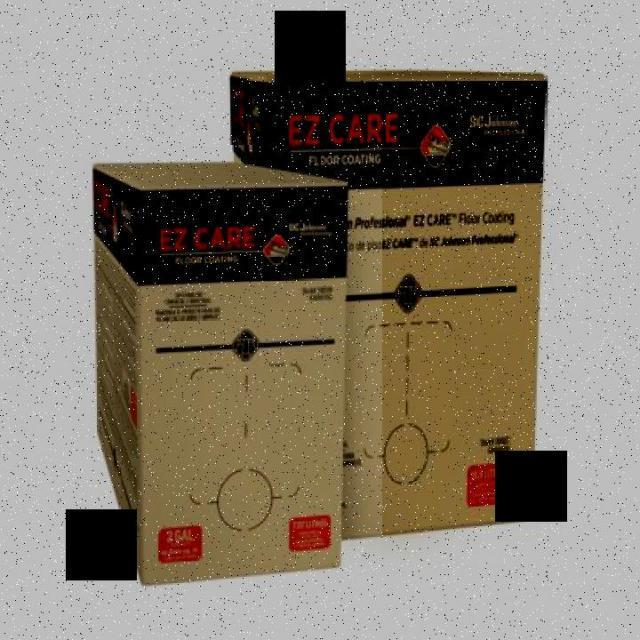box: (227, 61, 547, 539), (79, 145, 382, 618)
